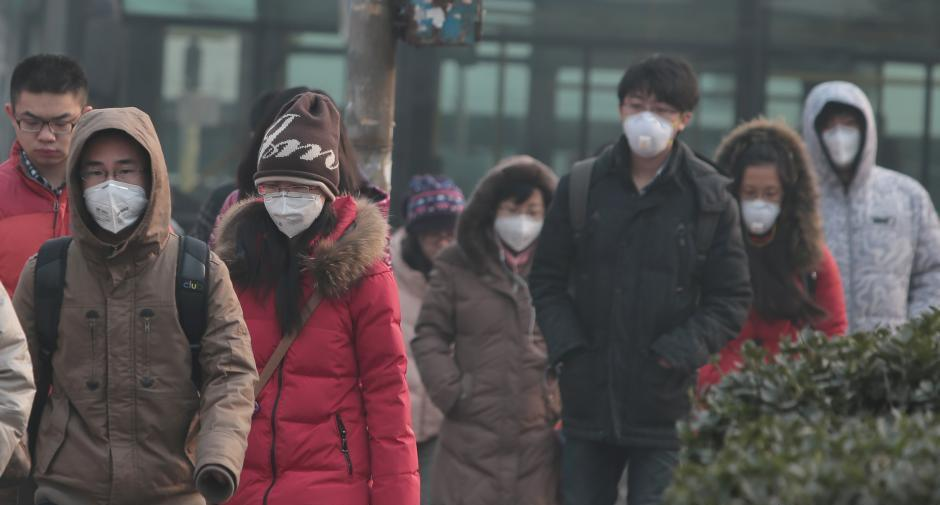NONE: (15, 106, 78, 166), (418, 222, 464, 272)
OK: (78, 156, 154, 232), (621, 90, 684, 156), (259, 171, 325, 232), (500, 201, 546, 255), (743, 179, 786, 236), (819, 114, 864, 166)
